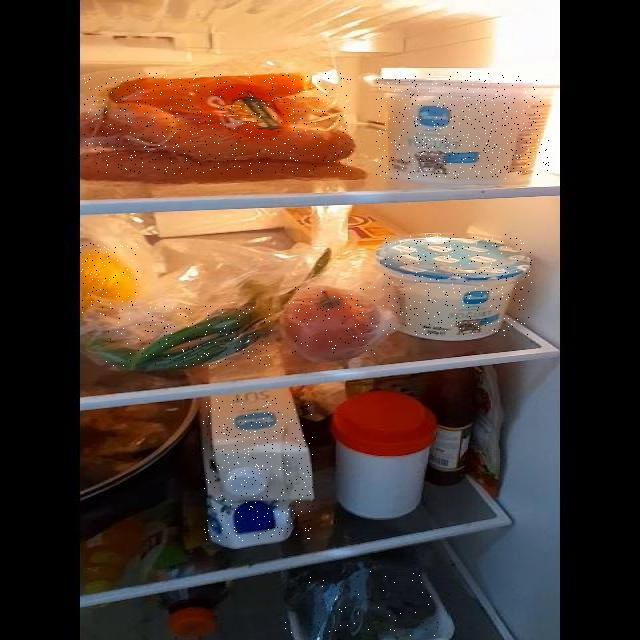broccoli: (282, 570, 449, 637)
carrot: (84, 73, 352, 174)
green chilies: (103, 306, 272, 366)
lemon: (80, 243, 139, 317)
milk: (203, 398, 313, 541)
tomato: (288, 287, 377, 354)
yoghurt: (376, 72, 549, 179), (383, 234, 532, 336)
